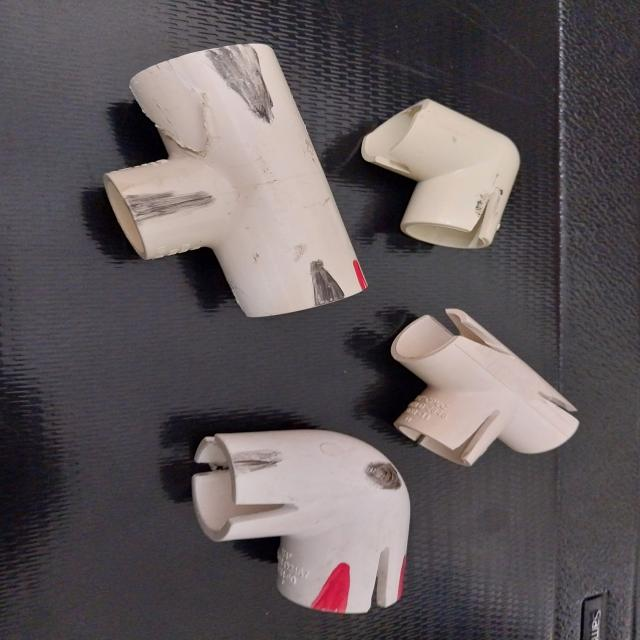Defective: (220, 475, 332, 545), (209, 47, 273, 123), (121, 188, 218, 228), (224, 492, 303, 526), (460, 416, 499, 469), (315, 567, 353, 611), (538, 384, 580, 422), (311, 262, 341, 306), (368, 549, 387, 614), (193, 449, 231, 481), (364, 465, 404, 492), (238, 454, 280, 472), (353, 264, 369, 288)
L Joint: (191, 428, 410, 618), (359, 102, 523, 249)
T Joint: (108, 40, 363, 331), (389, 296, 581, 472)
